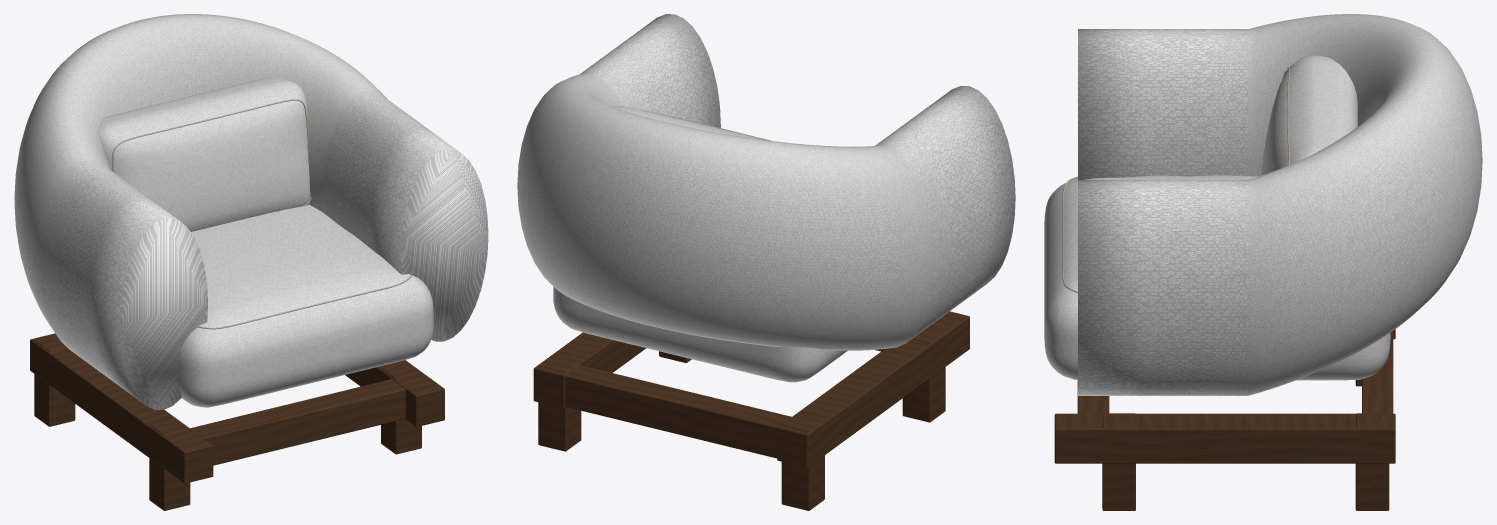
Rendered from atelier-vale-lounge-chair.glb.
3 renders of one model, left to right at view 1: azimuth 30°, elevation 25°; view 2: azimuth 150°, elevation 25°; view 3: azimuth 270°, elevation 25°, orthographic. The views are drawn at different scales.
Visible parts, largest first — view 1: Vale | continuous sculpted wraparound shell, Vale | floating crowned seat, Vale | relaxed lumbar, Vale | transverse stretcher, Vale | exposed sled rail, Vale | exposed sled rail.001, Vale | housed leg, Vale | housed leg.001, Vale | housed leg.002, Vale | relaxed lumbar | inset welt; view 2: Vale | continuous sculpted wraparound shell, Vale | exposed sled rail, Vale | transverse stretcher.001, Vale | floating crowned seat, Vale | exposed sled rail.001, Vale | housed leg.001, Vale | housed leg.003, Vale | housed leg, Vale | relaxed lumbar; view 3: Vale | continuous sculpted wraparound shell, Vale | exposed sled rail.001, Vale | floating crowned seat, Vale | relaxed lumbar, Vale | housed leg.003, Vale | housed leg.002, Vale | transverse stretcher.001, Vale | transverse stretcher.
Part boxes in pixels (box(x1,y1,x2,y2)): Vale | continuous sculpted wraparound shell: box(14, 14, 488, 409); Vale | floating crowned seat: box(179, 204, 433, 407); Vale | relaxed lumbar: box(98, 78, 310, 231); Vale | transverse stretcher: box(190, 379, 405, 465); Vale | exposed sled rail: box(30, 333, 213, 483); Vale | exposed sled rail.001: box(345, 360, 444, 426); Vale | housed leg: box(149, 418, 190, 510); Vale | housed leg.001: box(34, 335, 75, 426); Vale | housed leg.002: box(381, 361, 421, 454); Vale | relaxed lumbar | inset welt: box(112, 99, 311, 206); Vale | continuous sculpted wraparound shell: box(517, 14, 1015, 350); Vale | exposed sled rail: box(777, 311, 969, 467); Vale | transverse stretcher.001: box(565, 365, 791, 458); Vale | floating crowned seat: box(553, 286, 847, 382); Vale | exposed sled rail.001: box(533, 332, 646, 408); Vale | housed leg.001: box(781, 413, 824, 510); Vale | housed leg.003: box(538, 354, 581, 451); Vale | housed leg: box(902, 327, 945, 422); Vale | relaxed lumbar: box(612, 106, 765, 140); Vale | continuous sculpted wraparound shell: box(1078, 14, 1482, 395); Vale | exposed sled rail.001: box(1054, 413, 1395, 463); Vale | floating crowned seat: box(1044, 175, 1390, 380); Vale | relaxed lumbar: box(1261, 55, 1357, 175); Vale | housed leg.003: box(1355, 413, 1389, 510); Vale | housed leg.002: box(1102, 413, 1135, 510); Vale | transverse stretcher.001: box(1362, 331, 1393, 413); Vale | transverse stretcher: box(1077, 380, 1109, 413).
Bounding box in the file's own units: 0.906 × 0.825 × 0.848.
3 materials, 2 textured.
